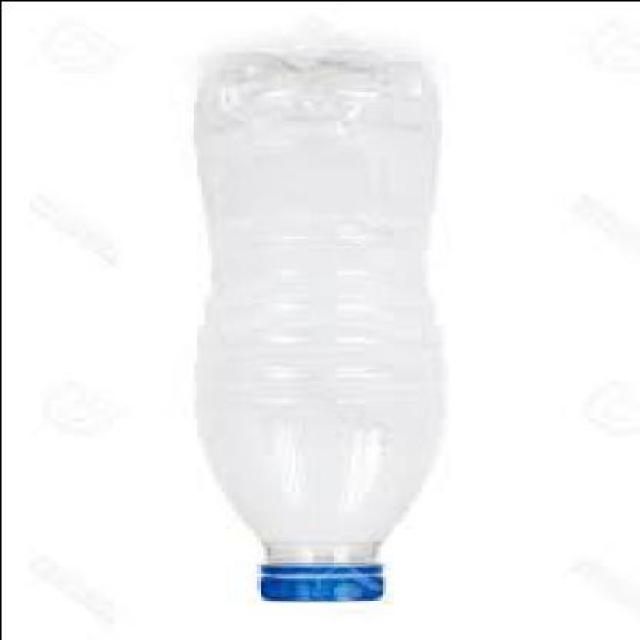PLASTIC: (188, 52, 438, 602), (255, 566, 378, 602)
